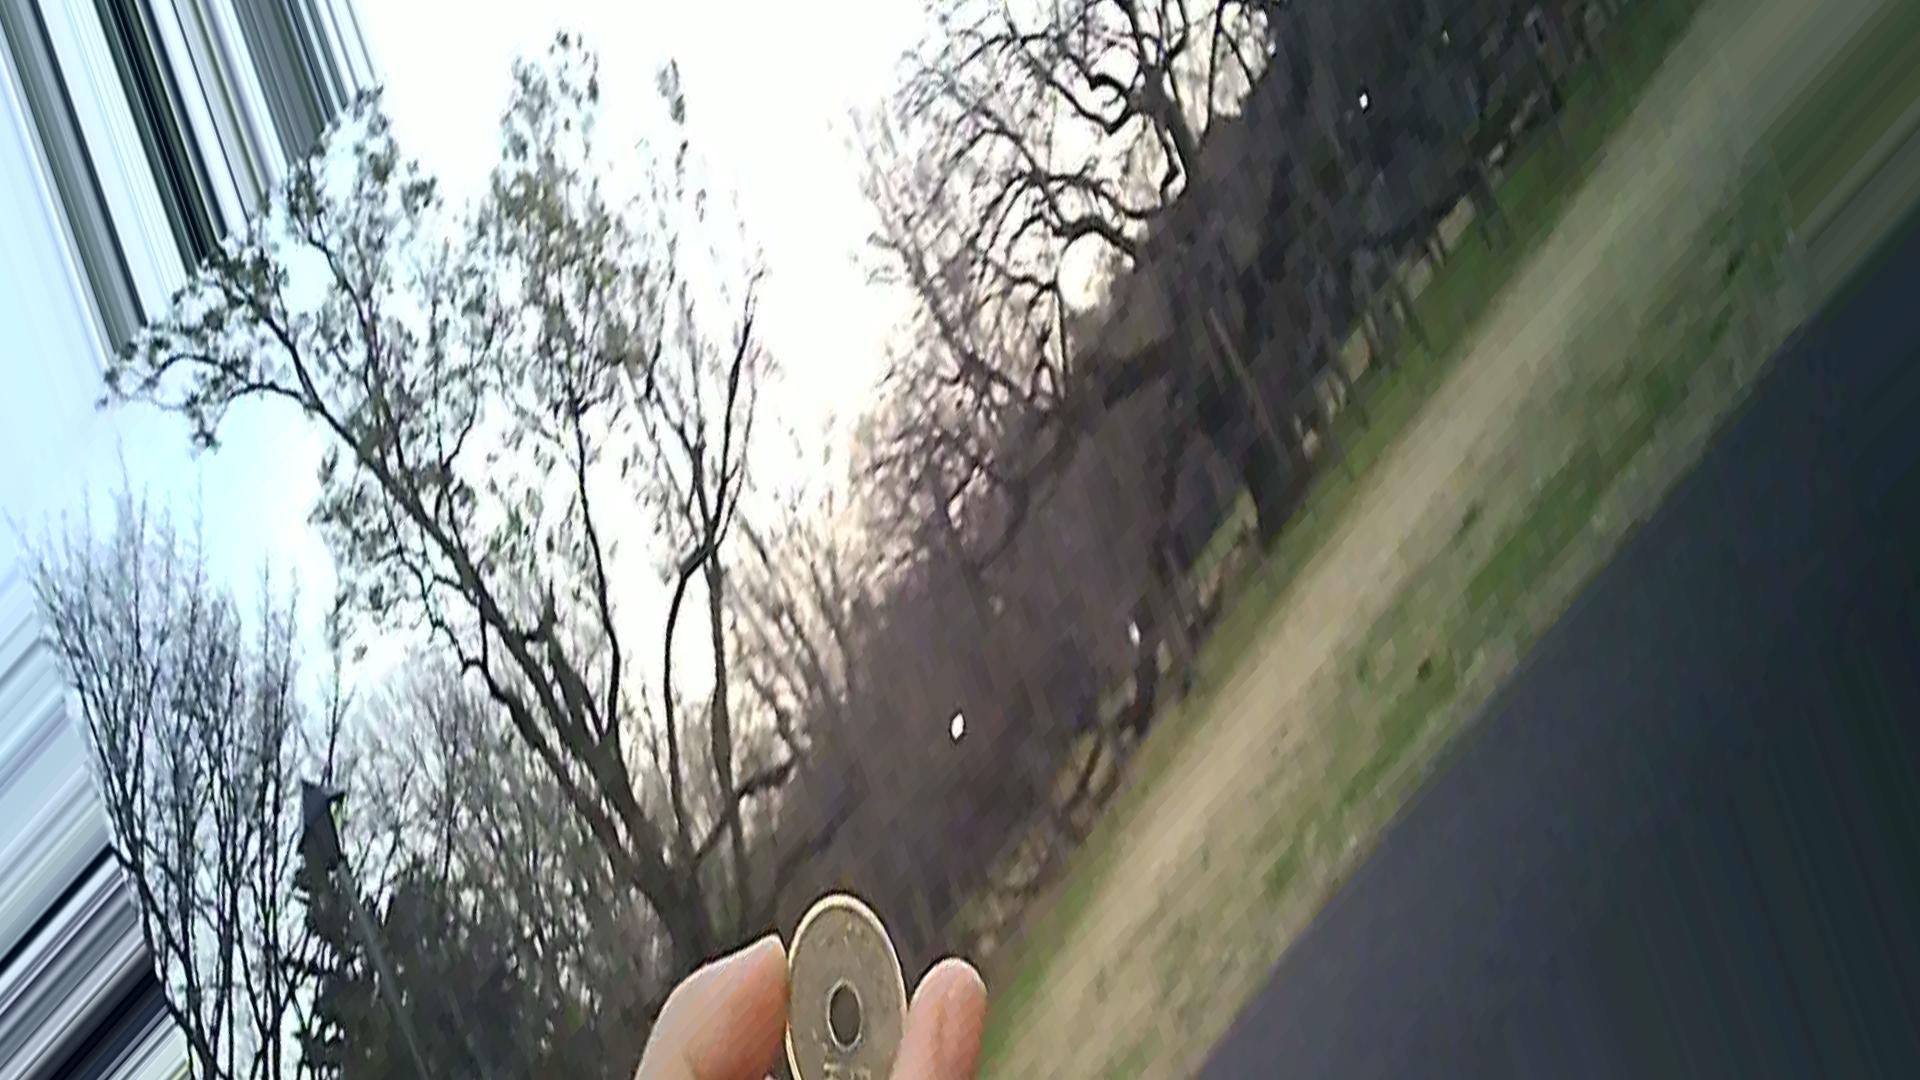5 Yen: (754, 878, 920, 1079)
